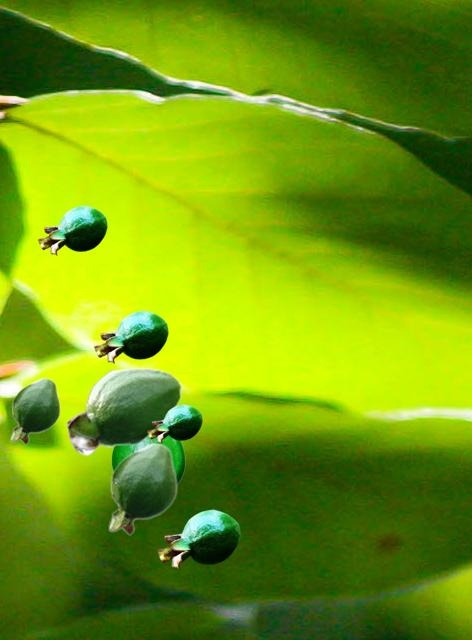guava: (66, 367, 182, 455), (108, 442, 176, 535), (111, 436, 184, 507), (157, 509, 239, 568), (94, 310, 167, 362), (38, 205, 106, 254), (10, 377, 59, 444), (147, 404, 201, 442)
